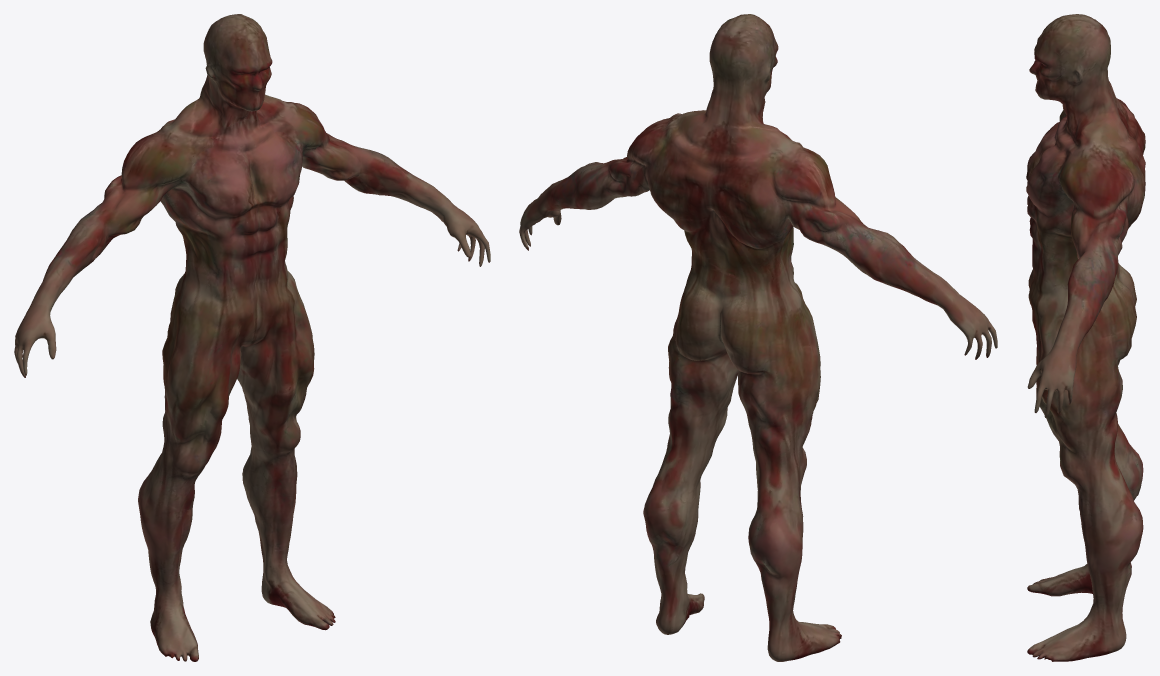
Rendered from sketchfab-zombie-mutant.glb.
The picture shows the model from 3 angles, left to right: view 1: azimuth 30°, elevation 25°; view 2: azimuth 150°, elevation 25°; view 3: azimuth 270°, elevation 25°; orthographic projection.
Visible parts, largest first — view 1: male_zbrush; view 2: male_zbrush; view 3: male_zbrush.
Part boxes in pixels (left/top/right/bottom): male_zbrush: left=14, top=14, right=490, bottom=661; male_zbrush: left=519, top=14, right=997, bottom=661; male_zbrush: left=1026, top=14, right=1145, bottom=661.
Size of the model in its own units: 2.26 by 2.84 by 0.5063.
1 material, 1 textured.
